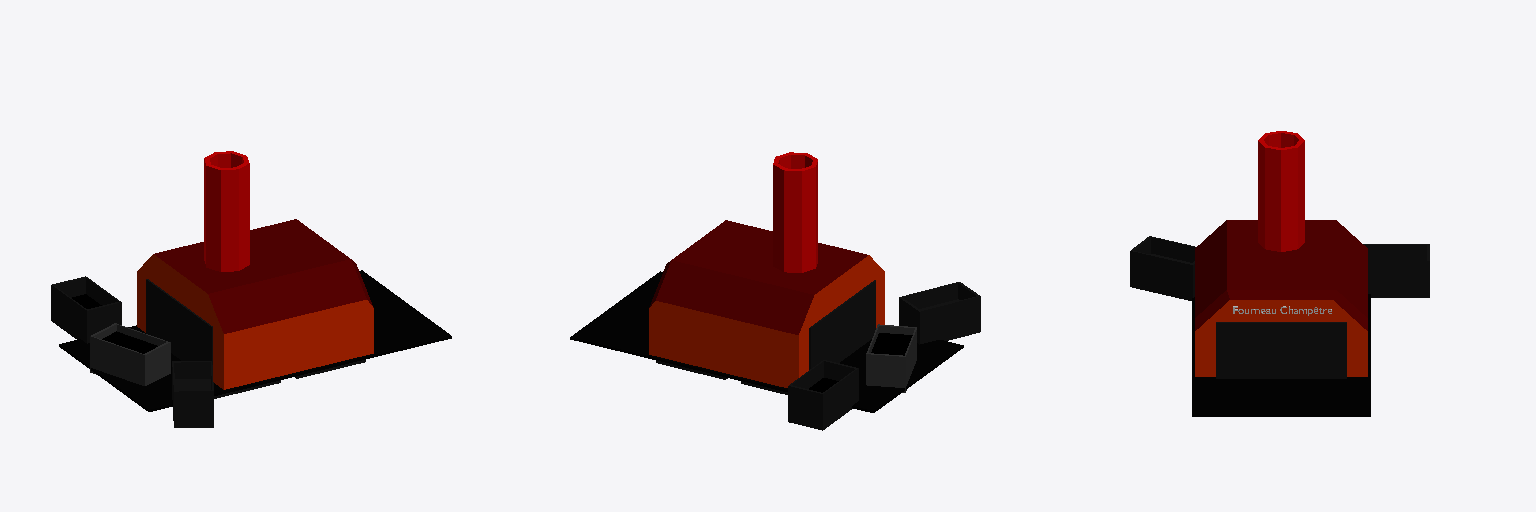
File: furnace.obj
3 renders of one model, left to right at view 1: azimuth 30°, elevation 25°; view 2: azimuth 150°, elevation 25°; view 3: azimuth 270°, elevation 25°, orthographic.
Visible parts, largest first — view 1: Cube.001, Cube, Cylinder, Cube.005, Cube.006, Cube.003, Cube.004; view 2: Cube.001, Cube, Cylinder, Cube.004, Cube.003, Cube.006, Cube.005; view 3: Cube.001, Cube.002, Cube, Cylinder, Cube.004, Cube.003.
Part boxes in pixels (bbox=[...]): Cube.001: bbox=[137, 219, 373, 389]; Cube: bbox=[59, 270, 451, 411]; Cylinder: bbox=[204, 151, 249, 271]; Cube.005: bbox=[90, 323, 170, 385]; Cube.006: bbox=[146, 279, 280, 398]; Cube.003: bbox=[51, 276, 121, 343]; Cube.004: bbox=[172, 361, 213, 427]; Cube.001: bbox=[649, 220, 884, 387]; Cube: bbox=[570, 271, 963, 412]; Cylinder: bbox=[773, 152, 817, 272]; Cube.004: bbox=[899, 282, 980, 344]; Cube.003: bbox=[788, 360, 858, 430]; Cube.006: bbox=[741, 280, 875, 394]; Cube.005: bbox=[866, 324, 916, 392]; Cube.001: bbox=[1195, 220, 1367, 376]; Cube.002: bbox=[1216, 322, 1346, 378]; Cube: bbox=[1192, 294, 1370, 416]; Cylinder: bbox=[1258, 131, 1304, 251]; Cube.004: bbox=[1130, 236, 1195, 300]; Cube.003: bbox=[1363, 244, 1429, 297].
Size of the model in its own units: 9.11 by 5.82 by 7.78.